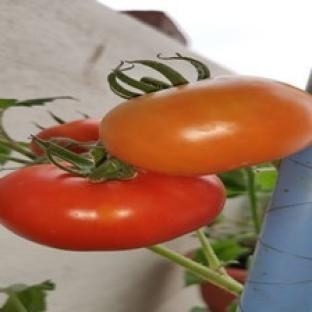Tomato: (101, 76, 311, 175), (0, 165, 225, 250), (35, 119, 100, 146)
